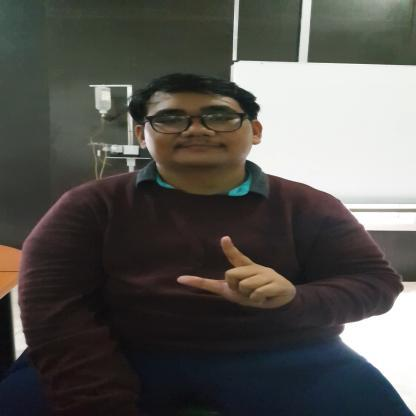L: (176, 235, 296, 312)
